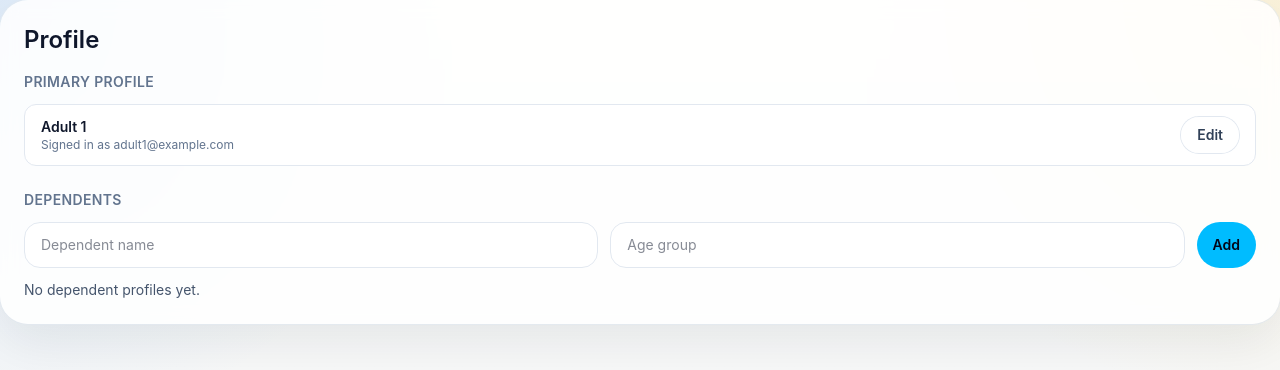
Scenario: ProfilePage › shows api detail when creating dependent fails
Check: the text "Signed in as adult1@example.com" is shown, box [41,137,234,152]
Type "   Child 2   " into the field labelled "Dependent name" at (311, 245), box [24,222,598,268]
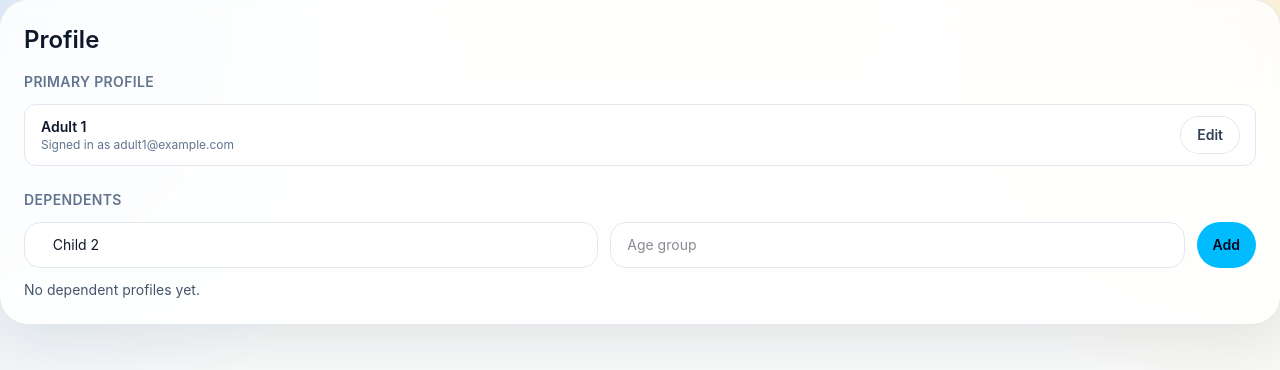
Click the button "Add" at (1226, 245), box [1196,222,1256,268]
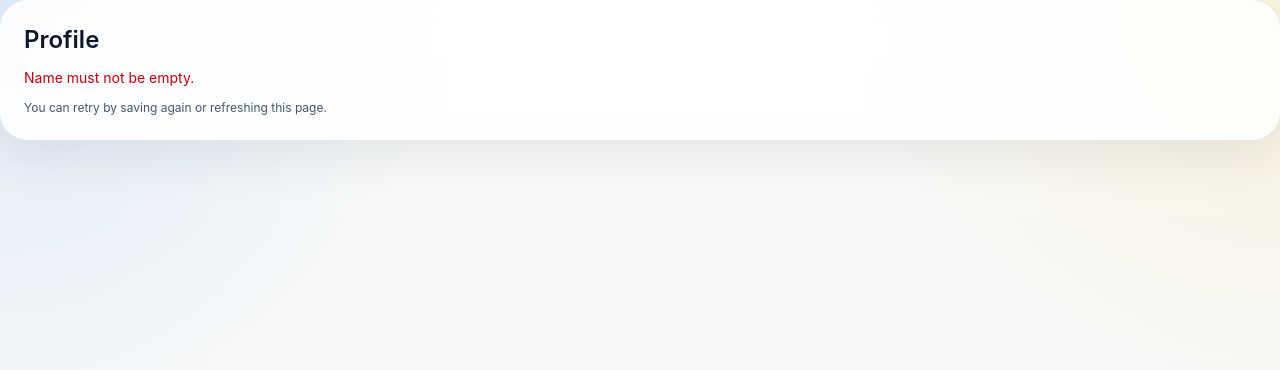
Check: the text "Name must not be empty." is shown, box [24,69,194,86]
